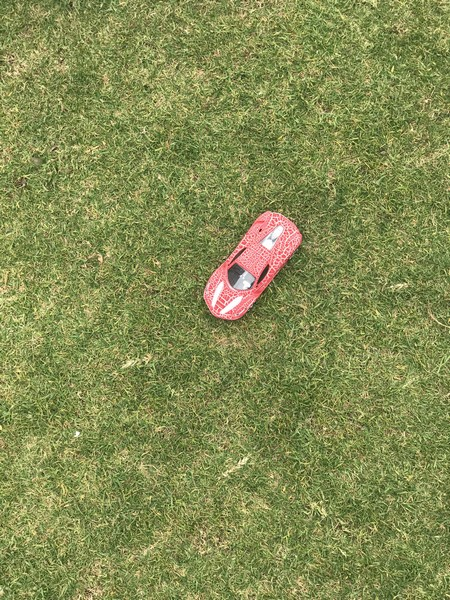RC: (198, 209, 304, 324)
